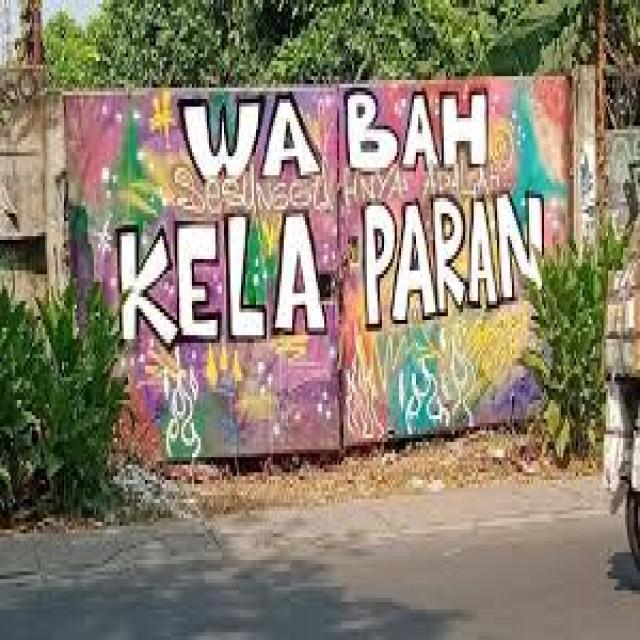-: (63, 73, 570, 460), (115, 196, 542, 345), (151, 88, 494, 174)
